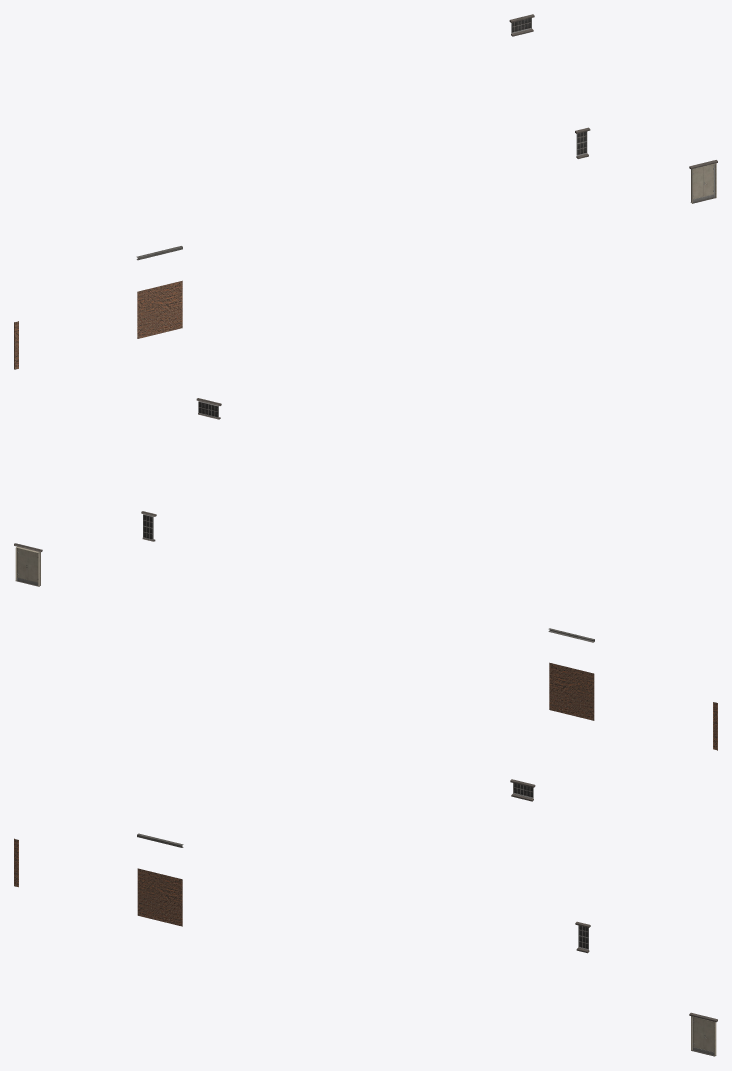
File: modular_factory_facade.glb
3 views of the same model, one above another, from view 1: azimuth 30°, elevation 25°; view 2: azimuth 150°, elevation 25°; view 3: azimuth 330°, elevation 25° (orthographic).
Parts seen in each view (by area): view 1: wall_standard_standard_01, door_centered_large_01; view 2: wall_standard_standard_01, door_centered_large_01; view 3: wall_standard_standard_01, door_centered_large_01.
Boxes of the visible parts, <box> form: wall_standard_standard_01: <box>137,280,182,338</box>; door_centered_large_01: <box>689,160,717,203</box>; wall_standard_standard_01: <box>549,662,594,720</box>; door_centered_large_01: <box>14,543,42,586</box>; wall_standard_standard_01: <box>137,868,182,926</box>; door_centered_large_01: <box>689,1012,717,1056</box>.
Size of the model in its own units: 46.55 by 14.36 by 0.285.
5 materials, 5 textured.
